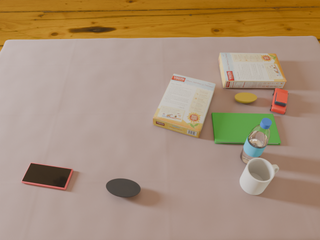book: (212, 113, 281, 145)
bottle: (240, 118, 272, 164)
box: (153, 74, 216, 138), (219, 53, 286, 88)
cup: (240, 157, 279, 195)
mouse: (106, 179, 141, 197), (235, 93, 257, 103)
phone: (21, 163, 73, 190)
toy_car: (270, 88, 288, 114)
